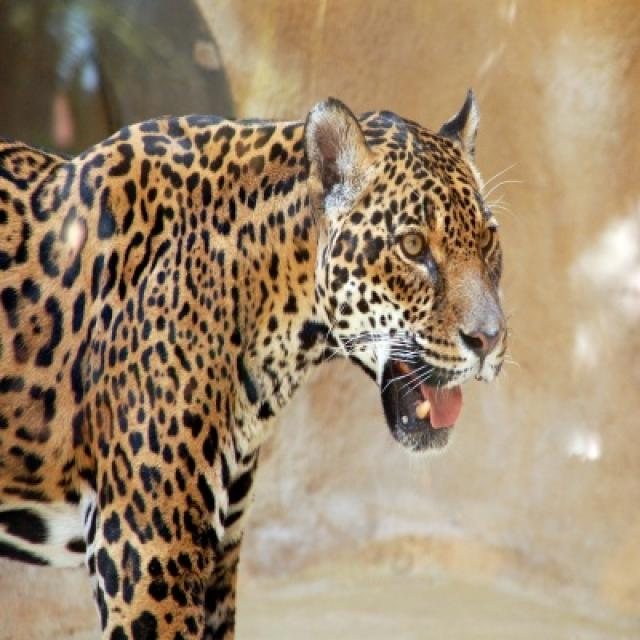Jaguar: (0, 82, 534, 638)
